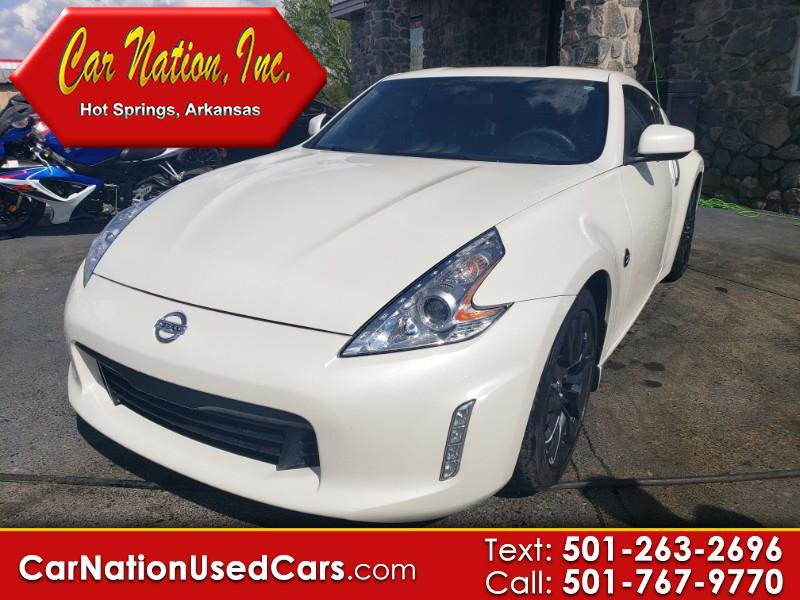car: (59, 67, 698, 524)
